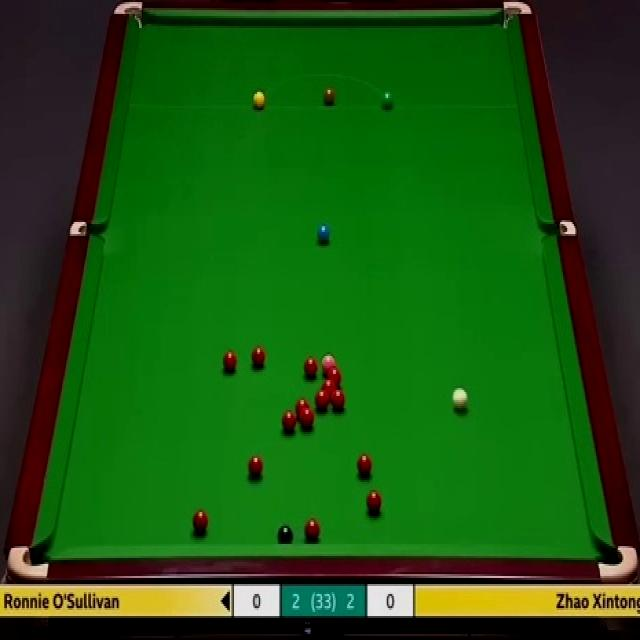black-ball: (277, 523, 294, 544)
blue-ball: (316, 225, 331, 242)
brown-ball: (324, 88, 335, 106)
green-ball: (380, 88, 395, 110)
pink-ball: (321, 354, 336, 374)
red-ball: (356, 452, 373, 477), (192, 511, 209, 534), (325, 366, 342, 389), (367, 490, 382, 514), (301, 358, 319, 378), (281, 409, 296, 433), (248, 454, 264, 476), (251, 343, 266, 366), (222, 352, 238, 372), (306, 520, 321, 541), (331, 388, 346, 408), (296, 398, 309, 418), (301, 408, 314, 428), (316, 389, 328, 408)
white-ball: (452, 386, 468, 415)
yellow-ball: (253, 90, 265, 110)
